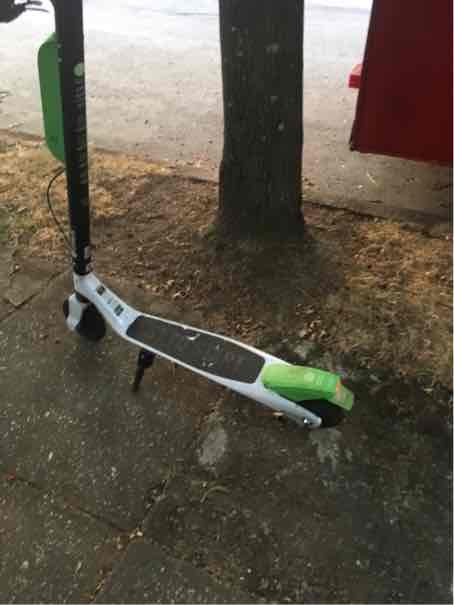scooter: (8, 1, 392, 453)
